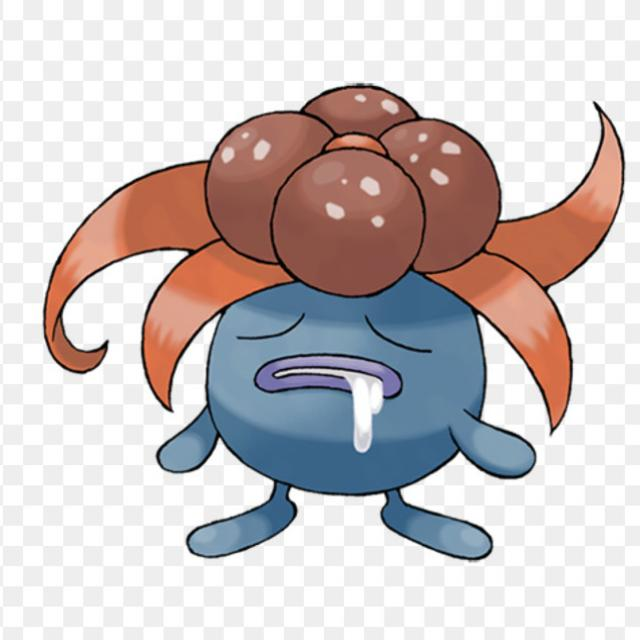Gloom: (38, 82, 625, 564)
